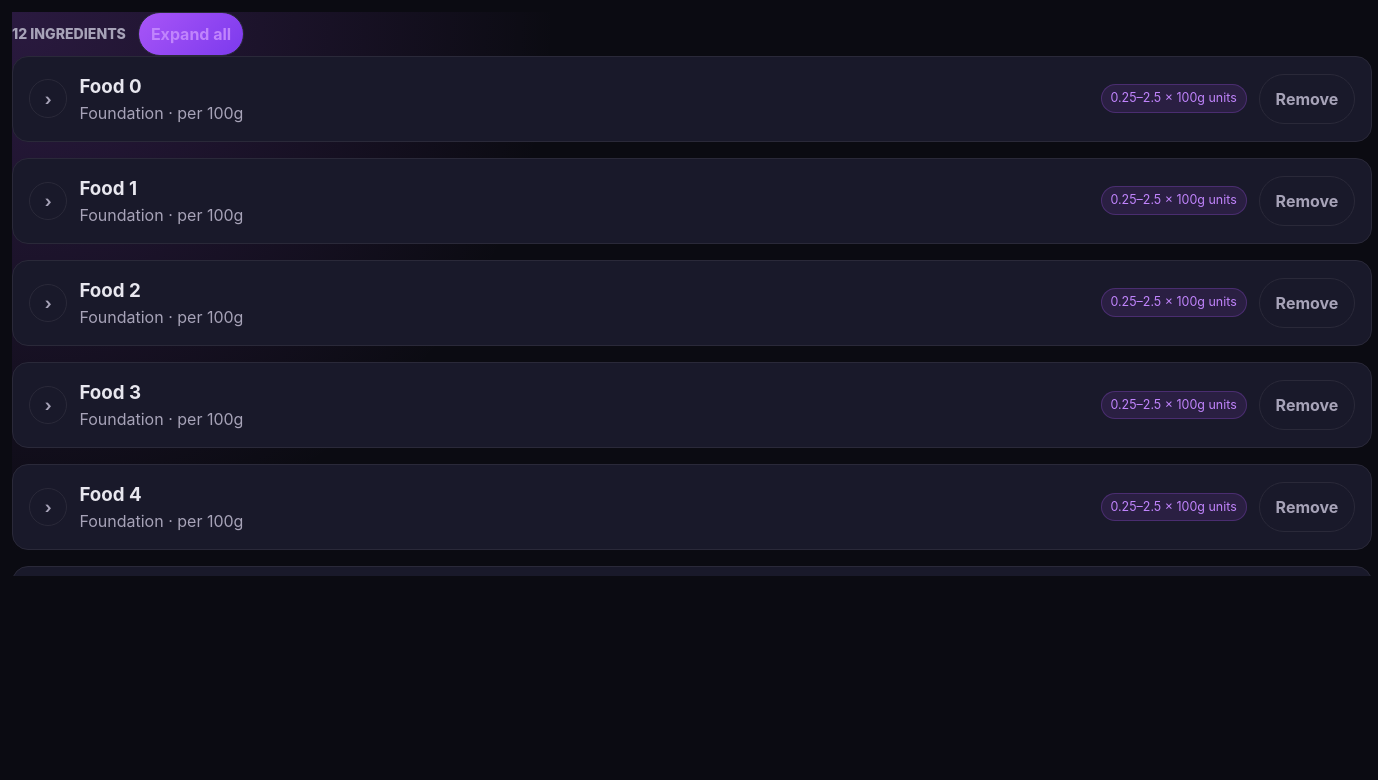
it: IngredientList › toggles an individual ingredient row without changing the search-results pagination pattern elsewhere
What coordinates should you click on to do the following:
click the button named "Expand Food 0 details"
I would click on:
 (48, 99)
Its box is [29,79,67,118].
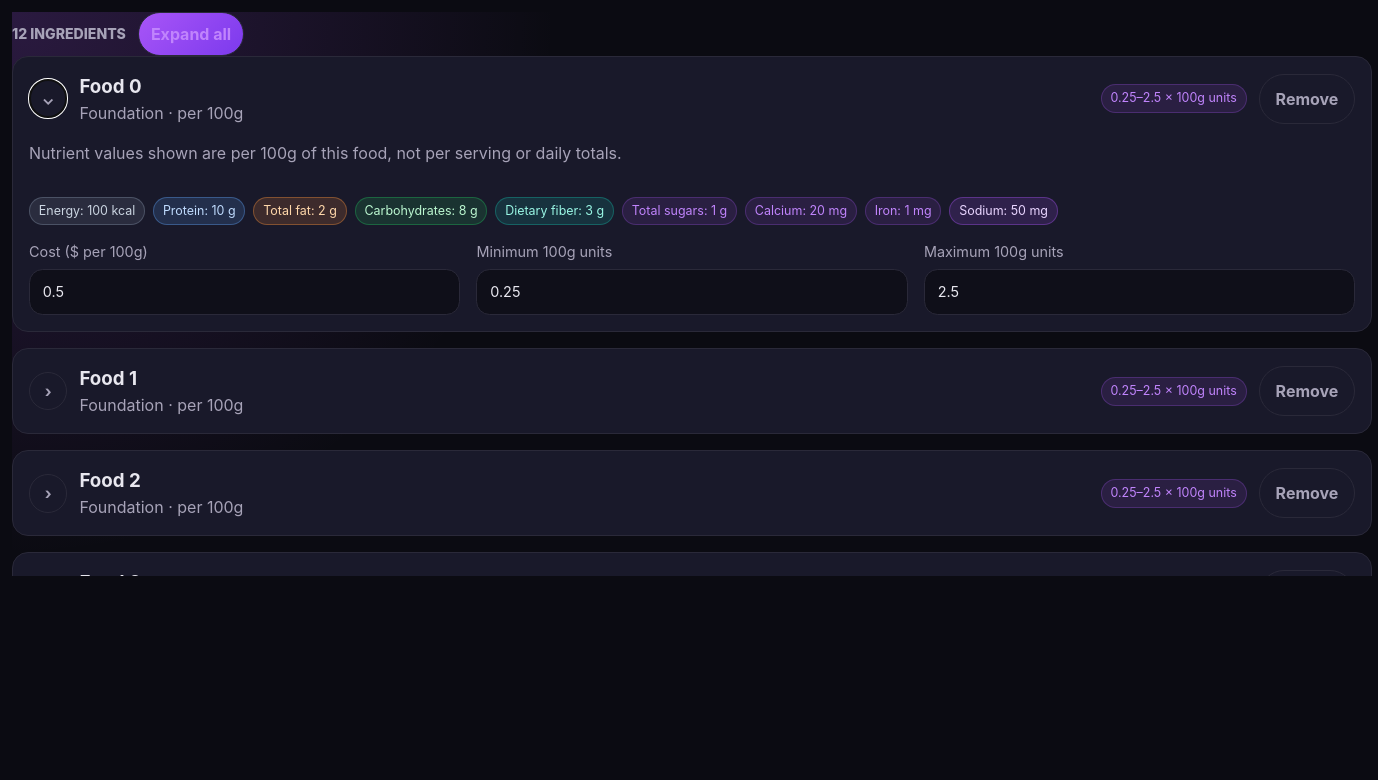
Expected: the text "Energy: 100 kcal" is shown, [29,197,145,225]
What coordinates should you click on to do the following:
click the button named "Collapse Food 0 details"
I would click on:
 (48, 99)
Its box is [29,79,67,118].
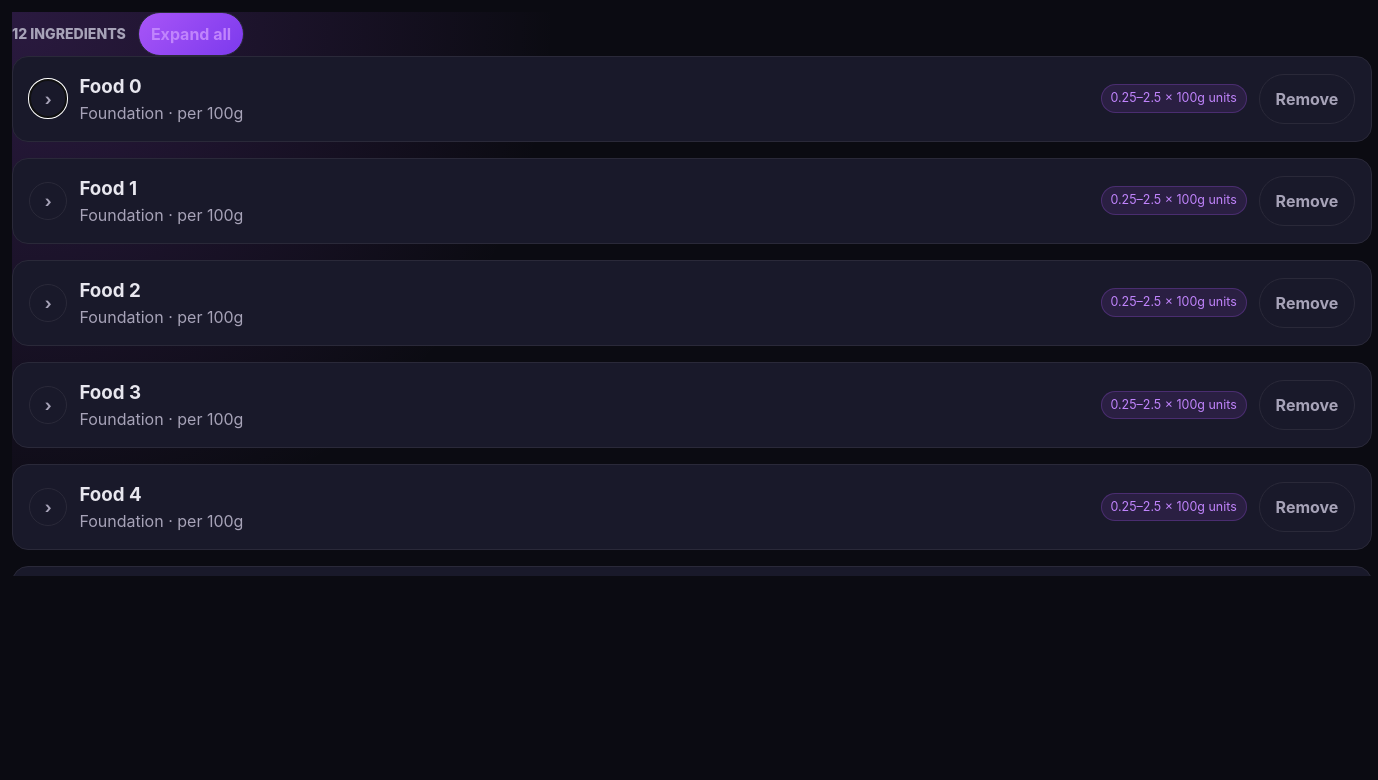
Expected: the text "Energy: 100 kcal" is gone
